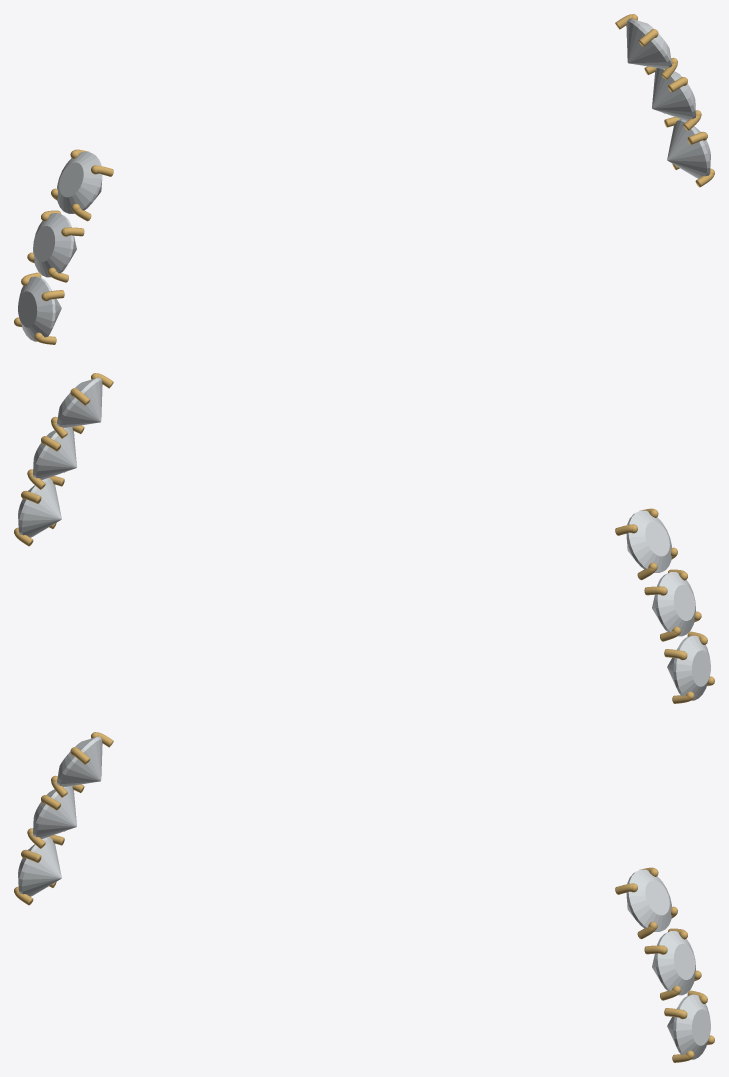
Rendered from accents-scalloped-u-cut-wide.glb.
The picture shows the model from 3 angles, top to bottom: view 1: azimuth 30°, elevation 25°; view 2: azimuth 150°, elevation 25°; view 3: azimuth 330°, elevation 25°; orthographic projection.
Parts seen in each view (by area): view 1: Gem, Gem.001, Gem.002, Gem.005, Gem.003, Gem.004; view 2: Gem, Gem.001, Gem.002, Gem.005, Gem.003, Gem.004; view 3: Gem.003, Gem.004, Gem.005, Gem.002, Gem, Gem.001.
Boxes of the visible parts, bbox=[...] form: Gem: bbox=[57, 151, 102, 213]; Gem.001: bbox=[33, 213, 76, 277]; Gem.002: bbox=[18, 276, 61, 341]; Gem.005: bbox=[667, 119, 710, 178]; Gem.003: bbox=[626, 18, 672, 69]; Gem.004: bbox=[652, 68, 695, 120]; Gem: bbox=[626, 510, 671, 572]; Gem.001: bbox=[652, 572, 695, 636]; Gem.002: bbox=[667, 635, 710, 700]; Gem.005: bbox=[18, 478, 61, 537]; Gem.003: bbox=[56, 377, 102, 428]; Gem.004: bbox=[33, 427, 76, 479]; Gem.003: bbox=[626, 869, 671, 931]; Gem.004: bbox=[652, 931, 695, 995]; Gem.005: bbox=[667, 994, 710, 1059]; Gem.002: bbox=[18, 837, 61, 896]; Gem: bbox=[56, 736, 102, 787]; Gem.001: bbox=[33, 786, 76, 838].
Bounding box in the file's own units: 19.8 × 4.75 × 1.65.
